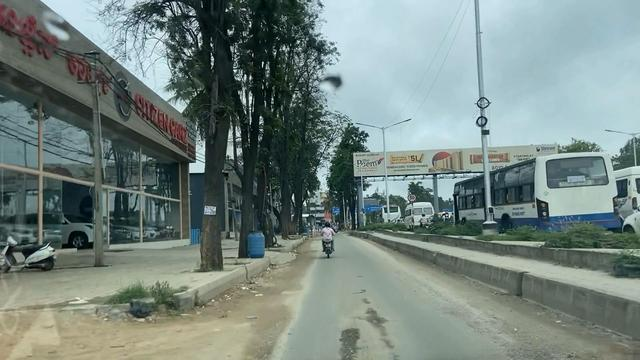RoadDamages: (354, 300, 396, 333), (336, 320, 369, 359)
